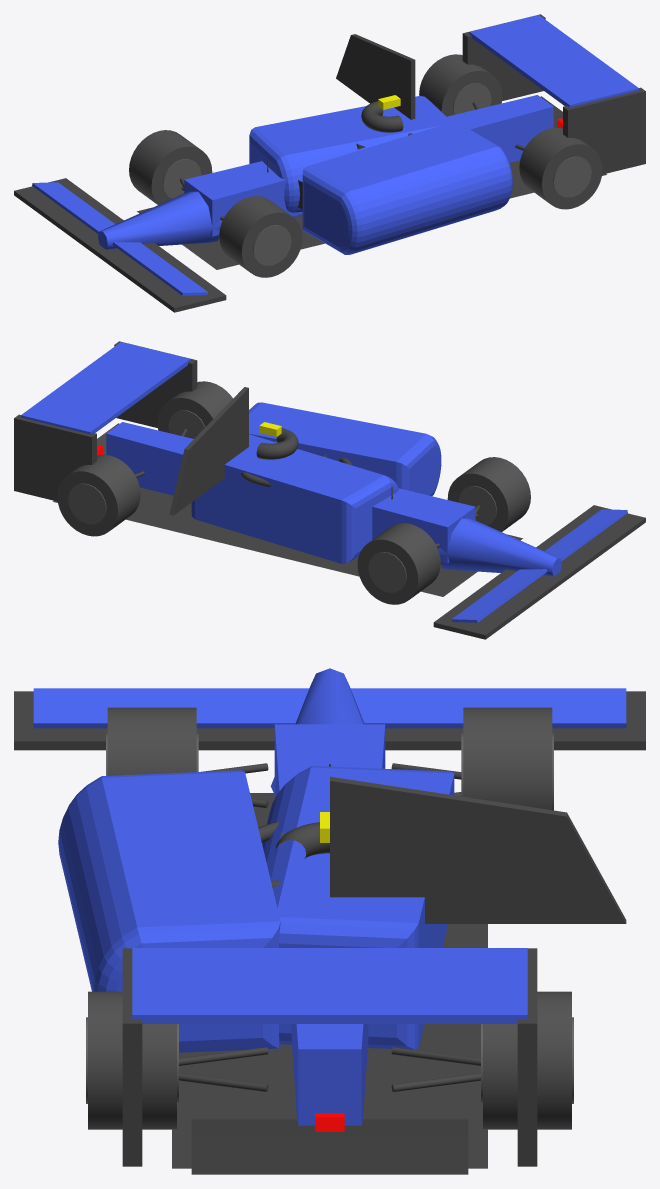
Rendered from build-a-f1-racecar.gltf.
3 renders of one model, top to bottom at view 1: azimuth 30°, elevation 25°; view 2: azimuth 150°, elevation 25°; view 3: azimuth 270°, elevation 25°, orthographic. The views are drawn at different scales.
Bounding box in the file's own units: 8.63 × 2.23 × 4.8.
